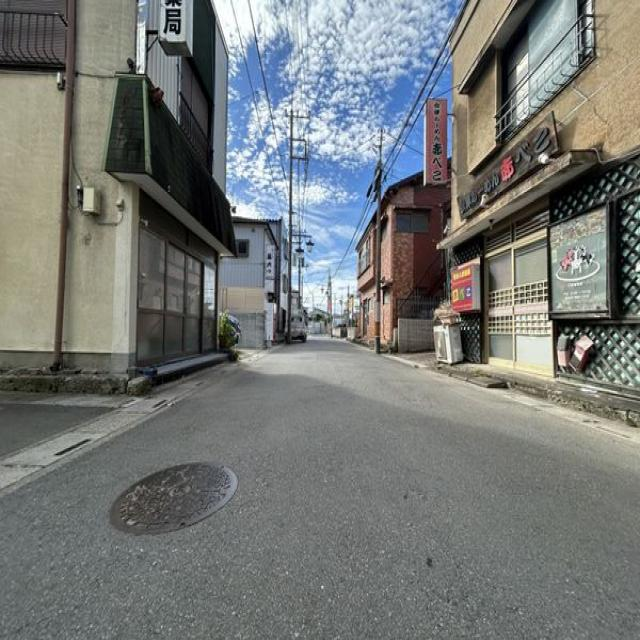manhole: (110, 460, 238, 536)
